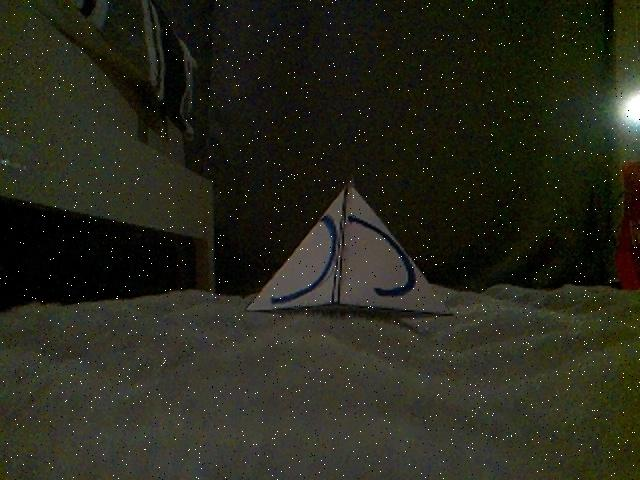C: (245, 182, 448, 313)
